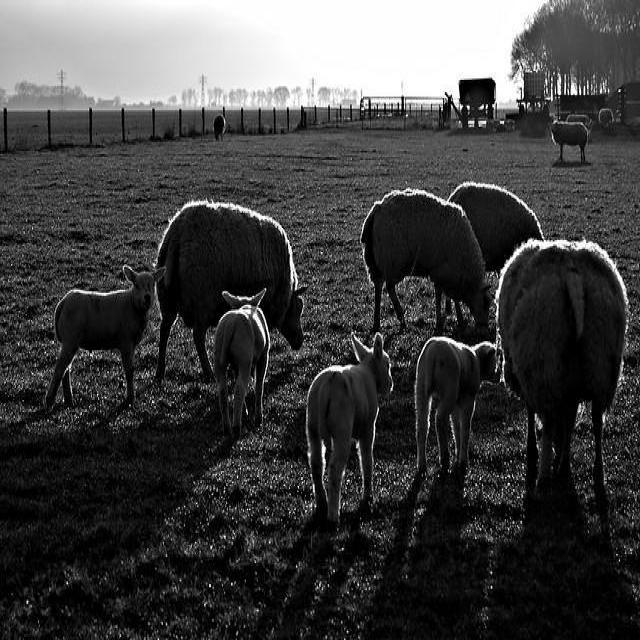Sheep: (498, 239, 630, 498), (155, 198, 311, 391), (360, 190, 494, 331), (44, 266, 167, 409), (311, 335, 392, 531), (416, 337, 501, 474), (449, 181, 546, 272), (213, 290, 270, 435)
